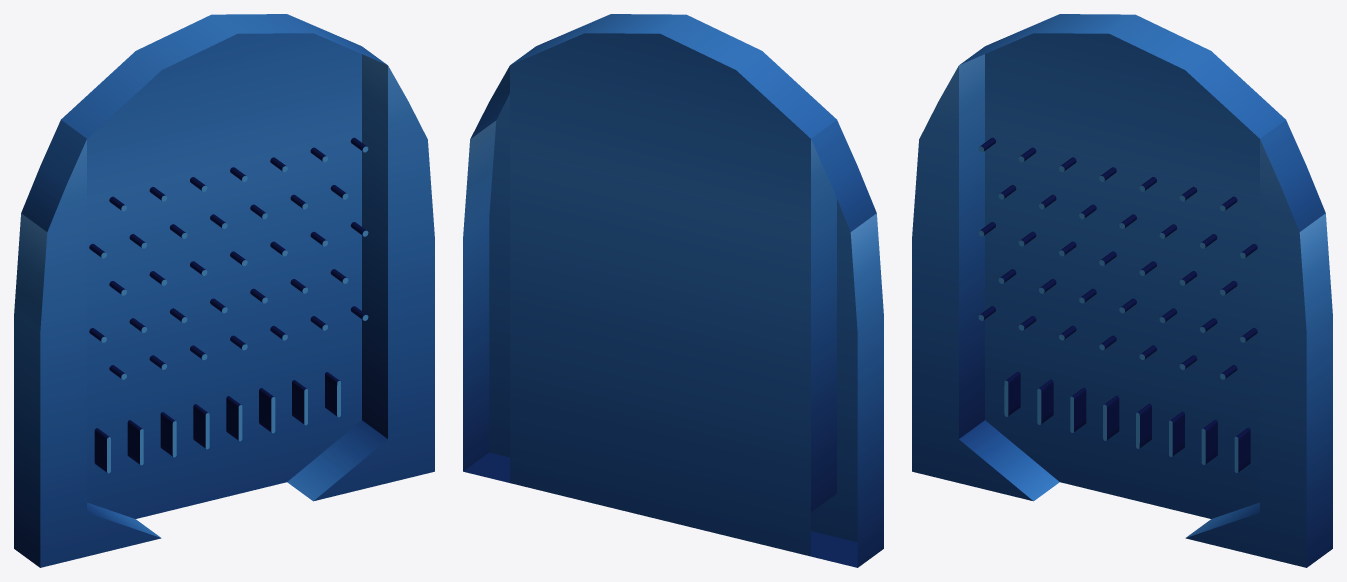
File: board.glb
3 renders of one model, left to right at view 1: azimuth 30°, elevation 25°; view 2: azimuth 150°, elevation 25°; view 3: azimuth 330°, elevation 25°, orthographic.
Visible parts, largest first — view 1: Board, obstacle_Class, obstacle_nail.001, obstacle_nail.002; view 2: Board; view 3: Board, obstacle_Class, obstacle_nail.001, obstacle_nail.002.
Part boxes in pixels (<box>): Board: <box>14,14,434,567</box>; obstacle_Class: <box>94,372,340,473</box>; obstacle_nail.001: <box>109,137,368,379</box>; obstacle_nail.002: <box>89,185,348,342</box>; Board: <box>463,14,883,567</box>; Board: <box>912,14,1332,567</box>; obstacle_Class: <box>1004,371,1250,472</box>; obstacle_nail.001: <box>978,137,1237,379</box>; obstacle_nail.002: <box>998,185,1257,342</box>.
Bounding box in the file's own units: 9.59 × 11.28 × 1.1.
1 material, 1 textured.
